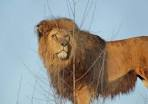lion: (33, 21, 148, 99)
